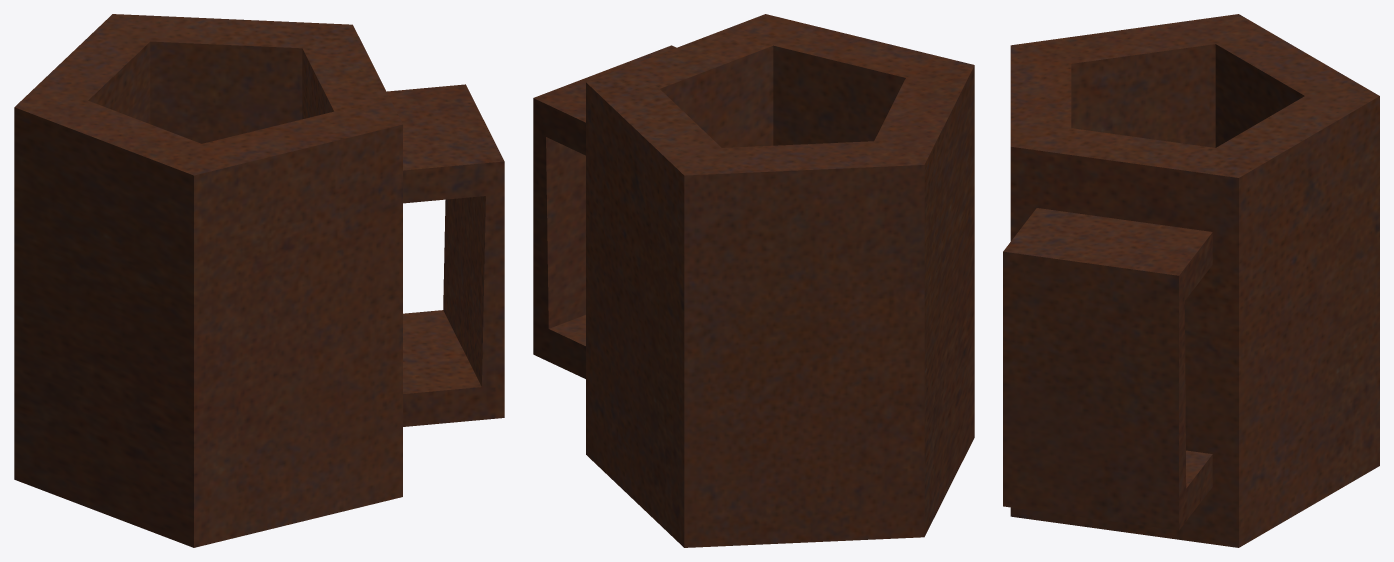
Rendered from mug.fbx.
3 views of the same model, side by side, from view 1: azimuth 30°, elevation 25°; view 2: azimuth 150°, elevation 25°; view 3: azimuth 270°, elevation 25° (orthographic).
Parts seen in each view (by area): view 1: Cylinder.002; view 2: Cylinder.002; view 3: Cylinder.002.
Boxes of the visible parts, x1,y1,x2,y2 form: Cylinder.002: (14,14,504,547); Cylinder.002: (533,14,974,547); Cylinder.002: (1003,14,1379,547).
Bounding box in the file's own units: 43.76 × 36.96 × 34.11.
